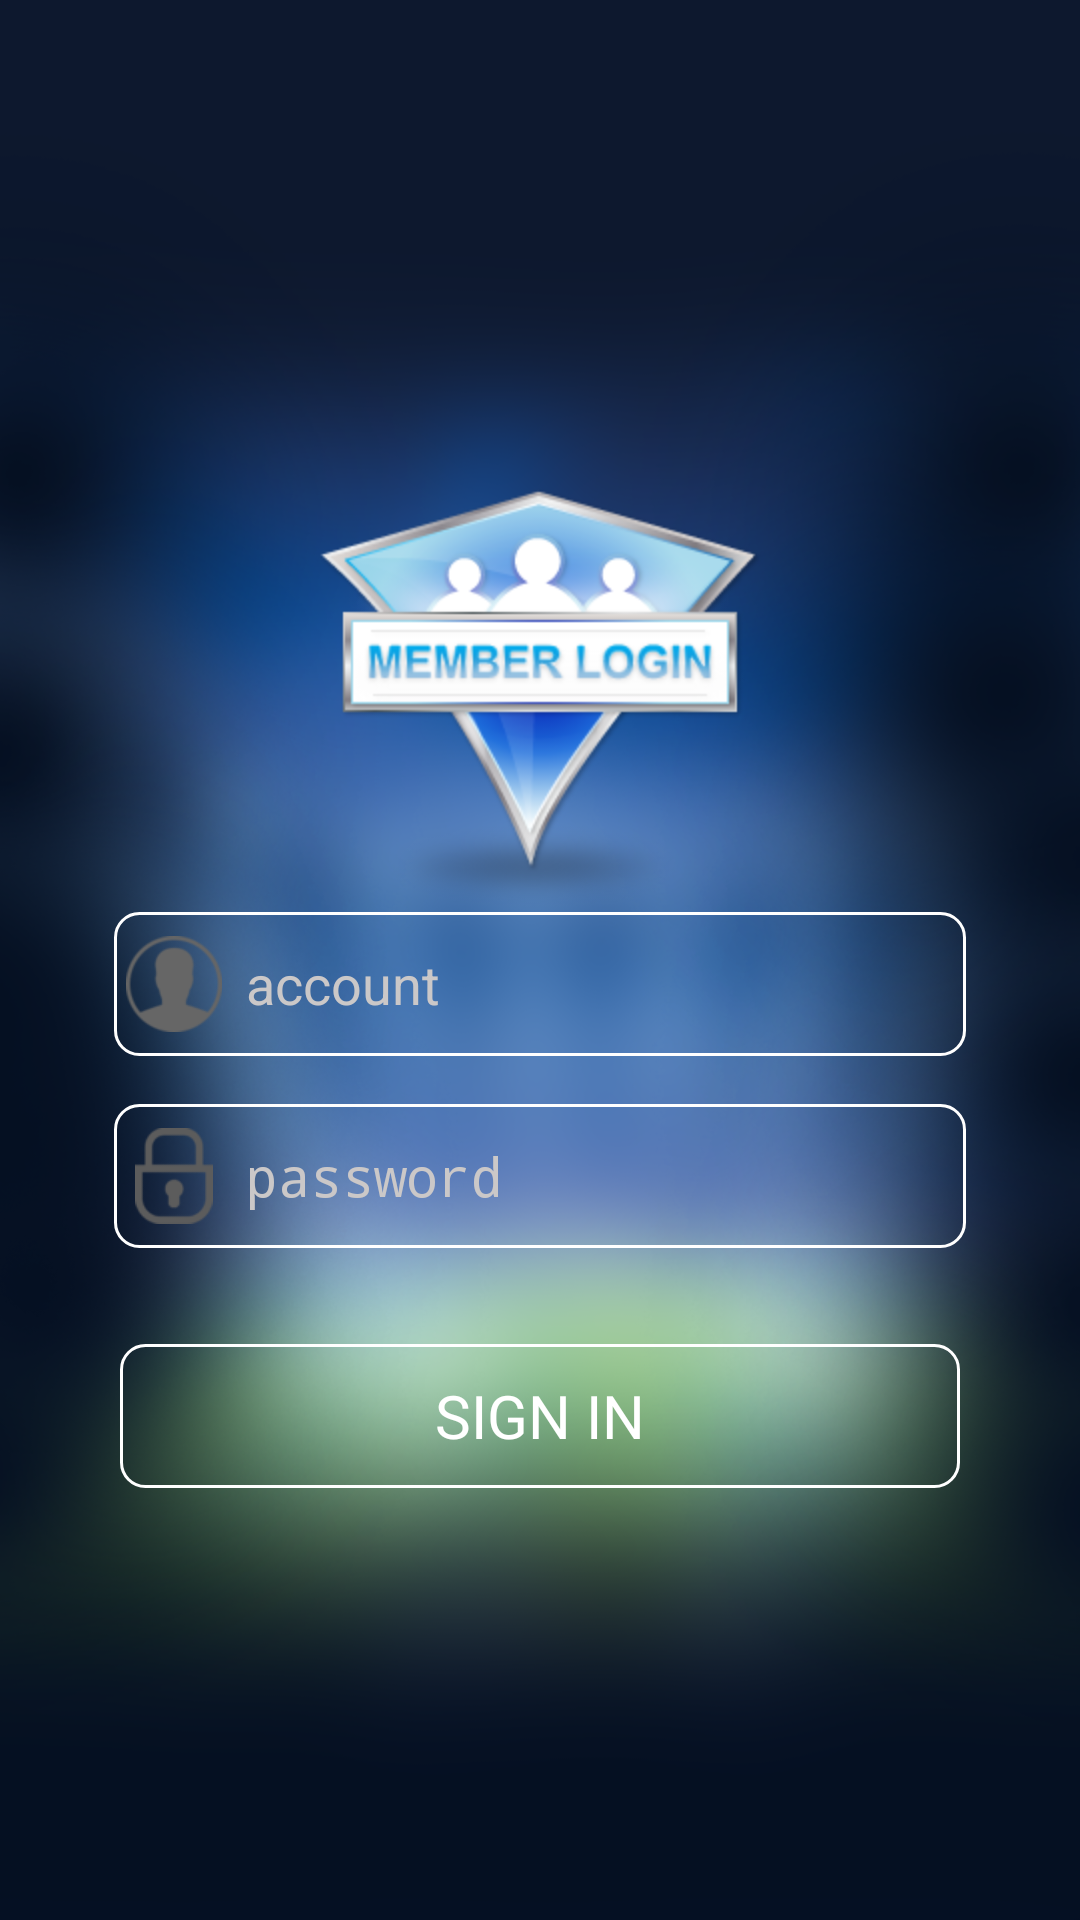

Icon click points for this 1080px x 1920px phone screenshot, format point (x, y):
login name: point (174, 984)
login pwd: point (174, 1176)
